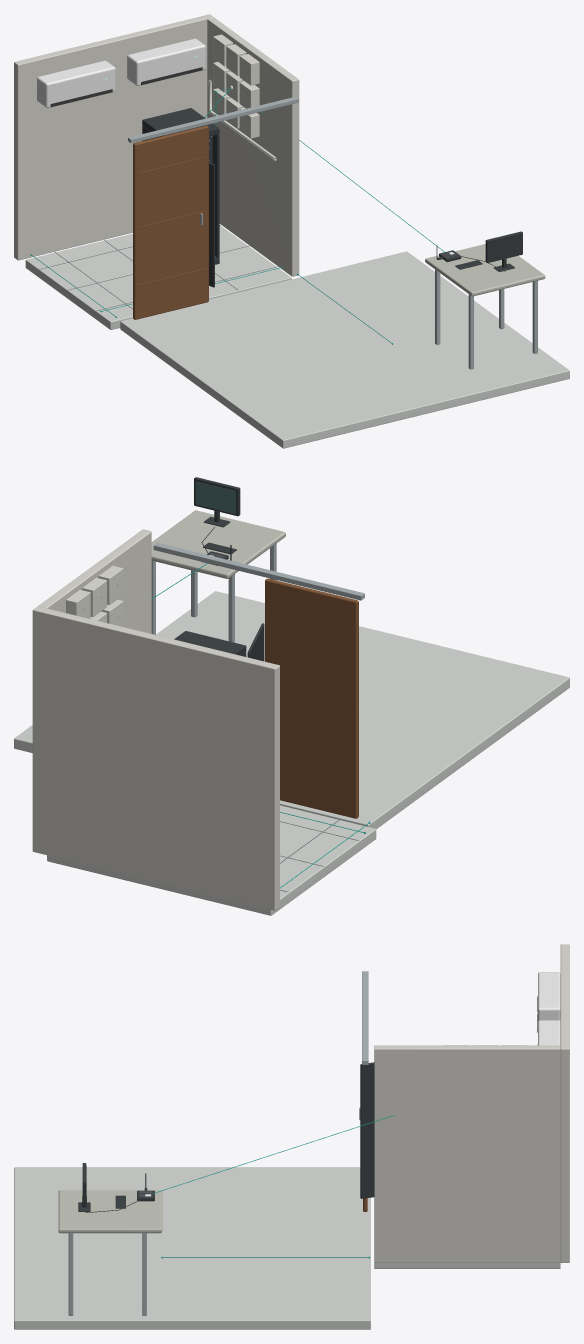
File: ruang_server.glb
3 renders of one model, top to bottom at view 1: azimuth 30°, elevation 25°; view 2: azimuth 150°, elevation 25°; view 3: azimuth 270°, elevation 25°, orthographic. The views are drawn at different scales.
Visible parts, largest first — view 1: Lantai area Mini PC, Dinding belakang, Dinding kanan, Daun pintu geser kayu, Lantai ruang server, Meja Mini PC, AC_Split_1, AC_Split_2, Cabinet_Frame, Rel pintu geser, Monitor meja, Panel pintu rak (+1 smaller); view 2: Dinding belakang, Lantai area Mini PC, Daun pintu geser kayu, Lantai ruang server, Meja Mini PC, Dinding kanan, Rel pintu geser, Layar monitor, Cabinet_Frame, Kotak dinding_2_0, Kotak dinding_2_1, Kotak dinding_2_2; view 3: Lantai area Mini PC, Dinding kanan, Meja Mini PC, Dinding belakang, Panel pintu rak, AC_Split_1, Lantai ruang server, Rel pintu geser, AC_Split_2, Kaki meja.002.
Part boxes in pixels (left/top/right/bottom): Lantai area Mini PC: left=120, top=251, right=569, bottom=448; Dinding belakang: left=14, top=14, right=213, bottom=260; Dinding kanan: left=207, top=17, right=299, bottom=276; Daun pintu geser kayu: left=133, top=125, right=208, bottom=319; Lantai ruang server: left=25, top=225, right=291, bottom=329; Meja Mini PC: left=425, top=244, right=545, bottom=296; AC_Split_1: left=37, top=60, right=115, bottom=108; AC_Split_2: left=127, top=38, right=205, bottom=85; Cabinet_Frame: left=142, top=108, right=219, bottom=264; Rel pintu geser: left=128, top=96, right=298, bottom=143; Monitor meja: left=485, top=231, right=522, bottom=262; Panel pintu rak: left=209, top=162, right=214, bottom=287; Dinding belakang: left=32, top=606, right=279, bottom=910; Lantai area Mini PC: left=14, top=591, right=569, bottom=828; Daun pintu geser kayu: left=265, top=578, right=358, bottom=818; Lantai ruang server: left=47, top=805, right=376, bottom=915; Meja Mini PC: left=151, top=510, right=285, bottom=578; Dinding kanan: left=38, top=529, right=151, bottom=633; Rel pintu geser: left=153, top=542, right=364, bottom=600; Layar monitor: left=195, top=481, right=235, bottom=514; Cabinet_Frame: left=174, top=631, right=246, bottom=656; Kotak dinding_2_0: left=98, top=565, right=123, bottom=604; Kotak dinding_2_1: left=82, top=577, right=106, bottom=616; Kotak dinding_2_2: left=66, top=589, right=90, bottom=618; Lantai area Mini PC: left=14, top=1167, right=370, bottom=1329; Dinding kanan: left=374, top=1045, right=560, bottom=1262; Meja Mini PC: left=58, top=1190, right=162, bottom=1233; Dinding belakang: left=560, top=944, right=569, bottom=1262; Panel pintu rak: left=360, top=1062, right=374, bottom=1198; AC_Split_1: left=538, top=972, right=560, bottom=1021; Lantai ruang server: left=374, top=1263, right=560, bottom=1268; Rel pintu geser: left=362, top=971, right=368, bottom=1064; AC_Split_2: left=538, top=1020, right=560, bottom=1045; Kaki meja.002: left=68, top=1233, right=73, bottom=1315.
Size of the model in its own units: 3.69 by 2.39 by 5.36.
